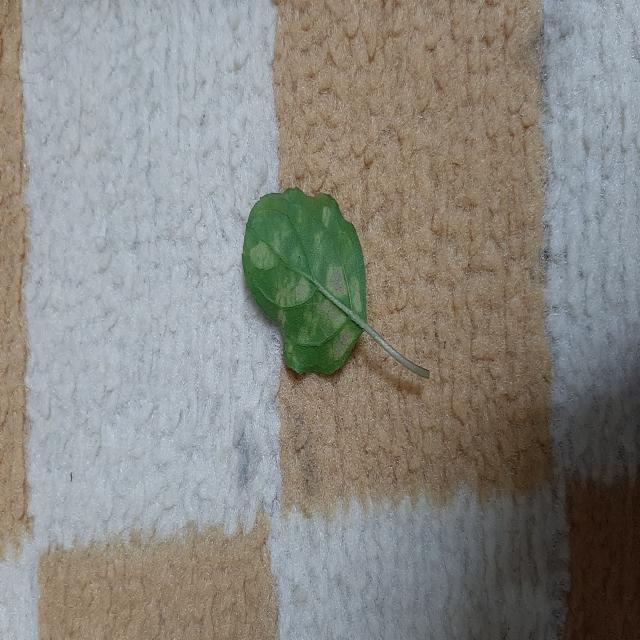defectedtulsi: (248, 238, 361, 374)
tulsi: (242, 187, 380, 374)
